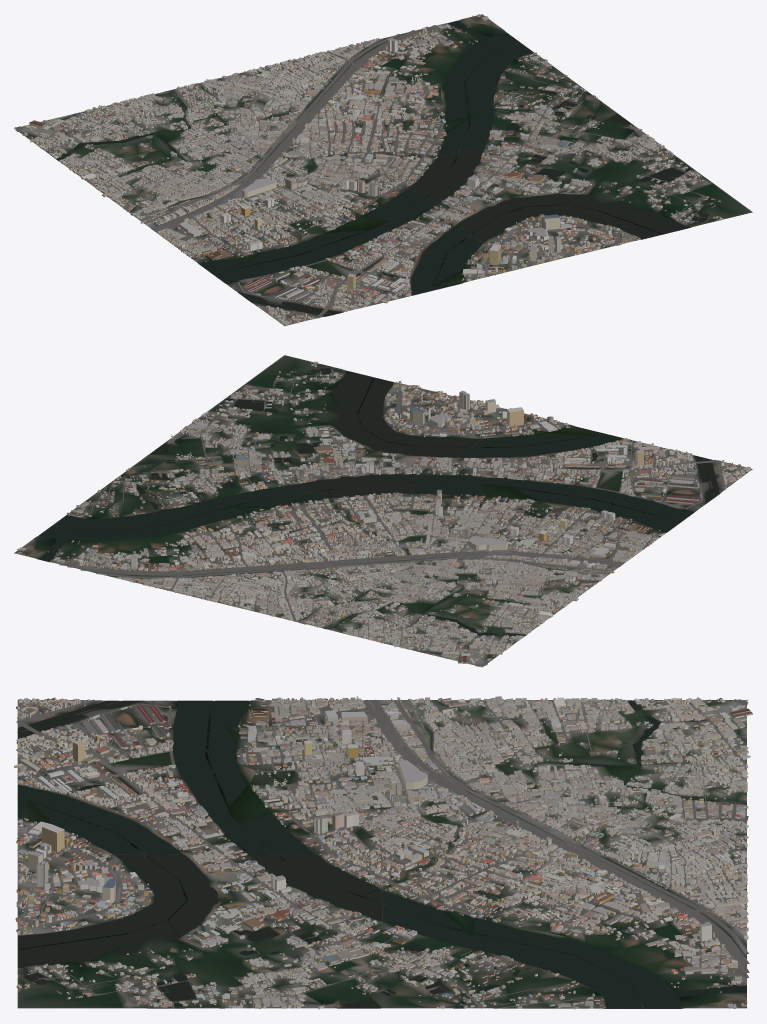
3 renders of one model, top to bottom at view 1: azimuth 30°, elevation 25°; view 2: azimuth 150°, elevation 25°; view 3: azimuth 270°, elevation 25°, orthographic. The views are drawn at different scales.
Visible parts, largest first — view 1: buildings, ground, water, roads; view 2: buildings, ground, water, roads; view 3: buildings, ground, water, roads.
Boxes of the visible parts, <box> form: buildings: <box>14,14,722,325</box>; ground: <box>14,14,752,326</box>; water: <box>56,20,708,316</box>; roads: <box>15,19,703,322</box>; buildings: <box>17,361,750,667</box>; ground: <box>14,355,752,667</box>; water: <box>38,368,719,635</box>; roads: <box>22,374,742,666</box>; buildings: <box>14,696,752,1009</box>; ground: <box>17,700,746,1008</box>; water: <box>17,700,746,1008</box>; roads: <box>16,699,749,1008</box>.
Bounding box in the file's own units: 2826 × 88.72 × 2839.
